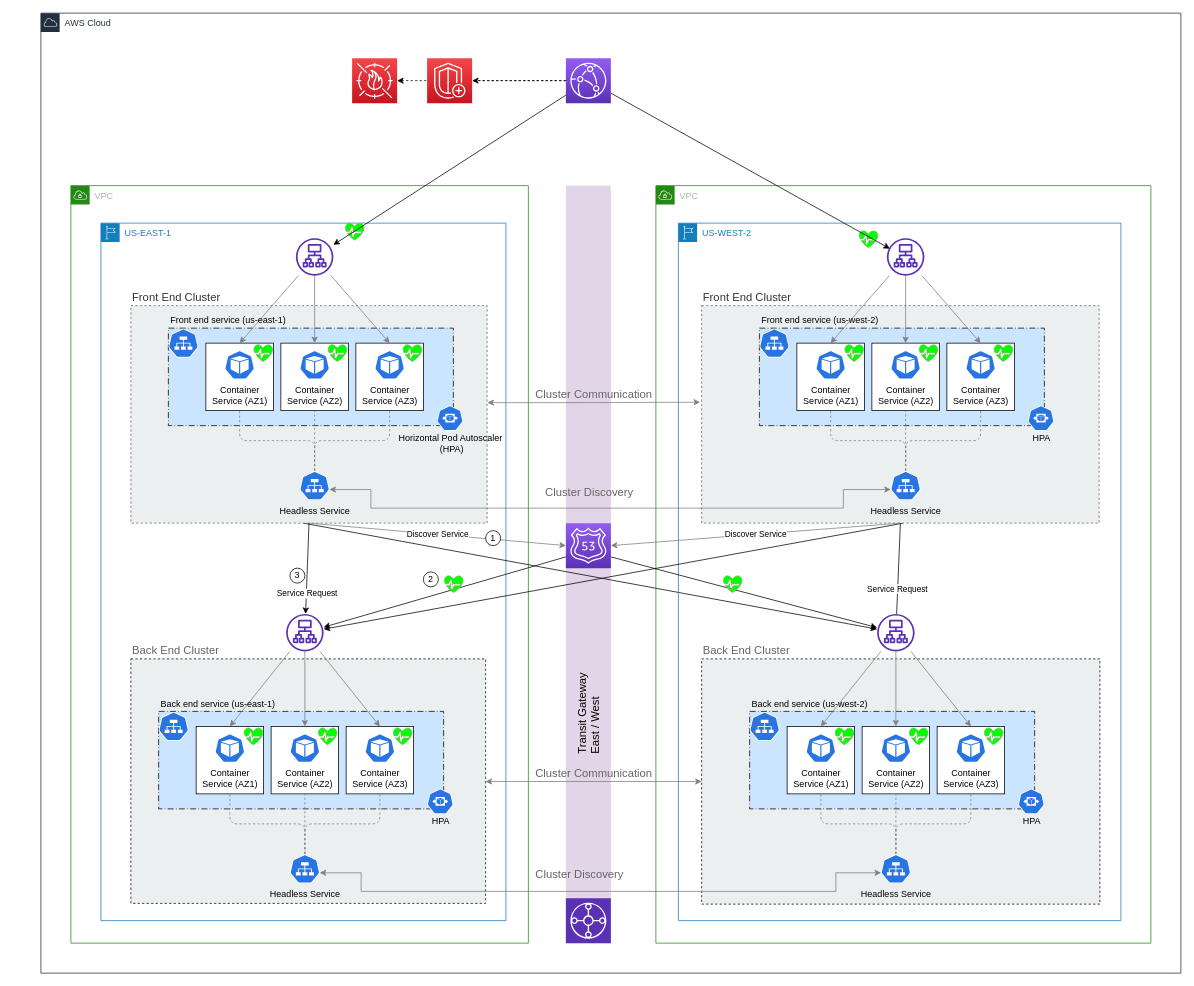
The diagram is 1194 pixels wide and 986 high, and some of its shapes have lost their labels. The centre of each missing label's shape, as x and y in pixels:
"CloudFront" belongs at (x=588, y=80).
"Shield" belongs at (x=449, y=80).
"WAF" belongs at (x=374, y=80).
